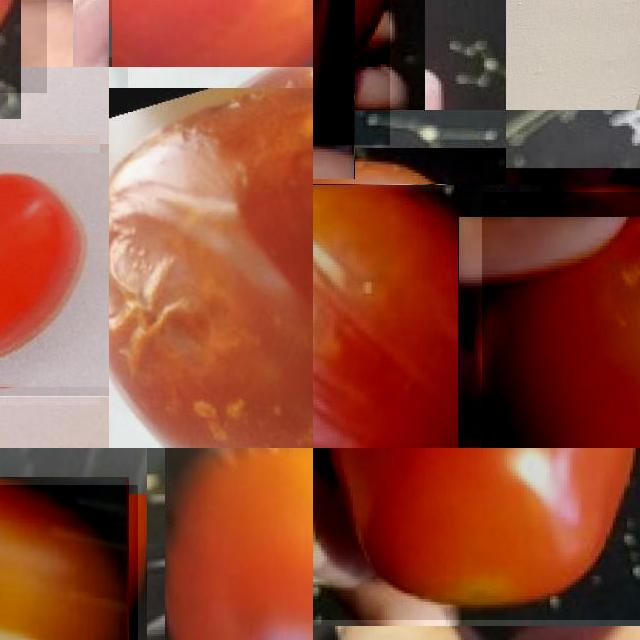0: (180, 448, 313, 640), (0, 485, 138, 640)
Fresh Tomato: (313, 448, 640, 619), (482, 192, 640, 448), (0, 143, 108, 396)
Rotten Tomato: (109, 67, 313, 448), (313, 165, 523, 448), (110, 0, 313, 68)
